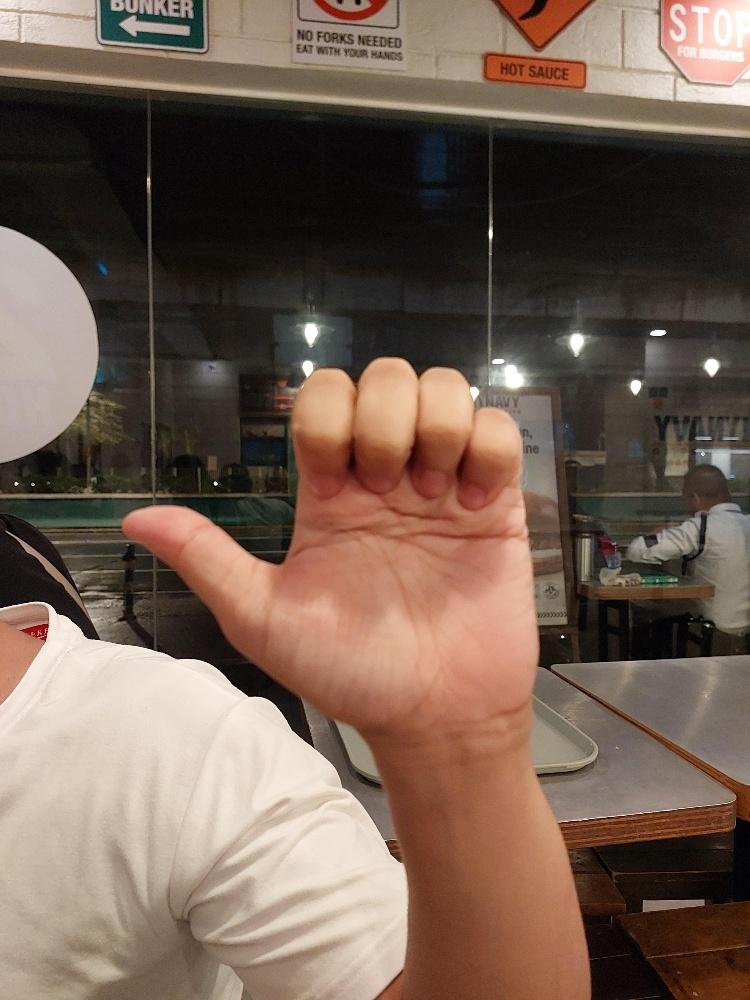e: (120, 356, 541, 733)
